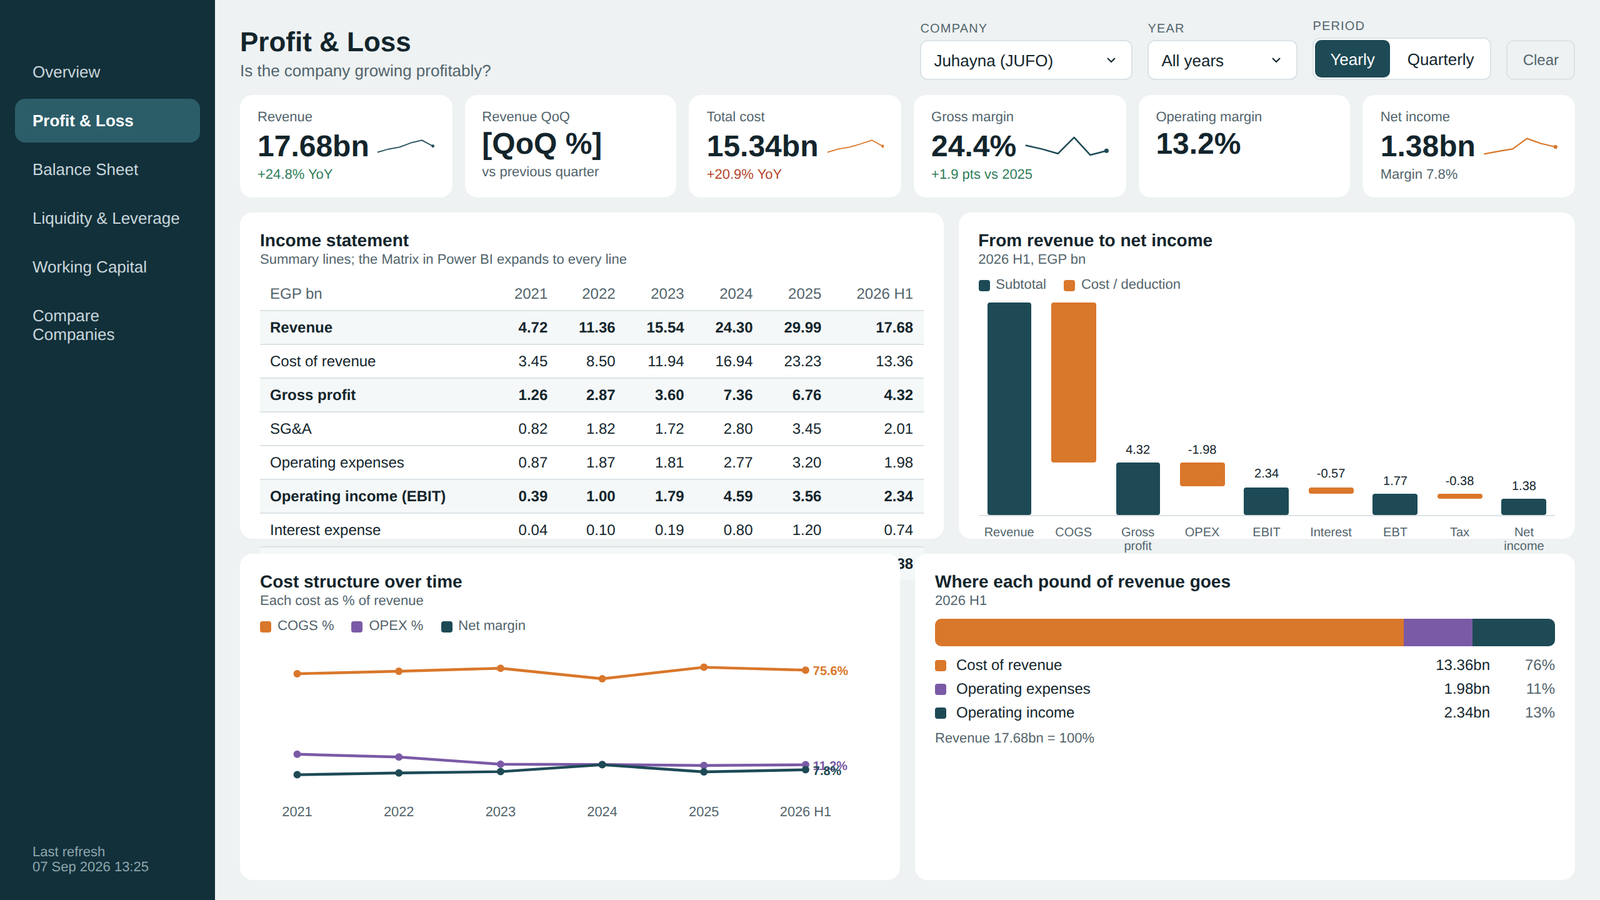

The page's visual inventory and layout, read from the dashboard file:
{"tool":"powerbi","page":{"name":"Profit & Loss","canvas":[1280,720],"ordinal":1},"visuals":[{"type":"card","title":"Revenue","fields":{"Values":["Measures List.Revenue (card)"]},"box":[192,78,170,80],"z":10},{"type":"card","title":"Revenue QoQ","fields":{"Values":["Measures List.Revenue QoQ% (card)"]},"box":[372,78,170,80],"z":11},{"type":"card","title":"Total cost","fields":{"Values":["Measures List.Total Cost (card)"]},"box":[551,78,170,80],"z":12},{"type":"card","title":"Gross margin","fields":{"Values":["Measures List.Gross Profit % (card)"]},"box":[731,78,170,80],"z":13},{"type":"card","title":"Operating margin","fields":{"Values":["Measures List.EBIT Margin % (card)"]},"box":[911,78,170,80],"z":14},{"type":"card","title":"Net income","fields":{"Values":["Measures List.Net Income (card)"]},"box":[1090,78,170,80],"z":15},{"type":"pivotTable","title":"Income statement","fields":{"Rows":["DimAccounts.Financial Term"],"Columns":["DimDate.Year"],"Values":["Measures List.Value (chart)"]},"box":[192,170,565,267],"z":20},{"type":"clusteredColumnChart","title":"From revenue to net income","fields":{"Y":["Measures List.Revenue (latest)","Measures List.COGS (latest)","Measures List.Gross profit (latest)","Measures List.OPEX (latest)","Measures List.EBIT (Operating Income) (latest)","Measures List.Interest Expense (latest)","Measures List.Pretax Income (latest)","Measures List.Income Tax Expense (latest)","Measures List.Net Income (latest)"]},"box":[769,170,491,267],"z":21},{"type":"lineChart","title":"Cost structure over time","fields":{"Y":["Measures List.COGS % of Revenue (chart)","Measures List.OPEX % of Revenue (chart)","Measures List.Net Income Margin % (chart)"],"Category":["DimDate.Year"]},"box":[192,449,528,255],"z":22},{"type":"hundredPercentStackedBarChart","title":"Where each pound of revenue goes","fields":{"Y":["Measures List.COGS (latest)","Measures List.OPEX (latest)","Measures List.EBIT (Operating Income) (latest)"]},"box":[732,449,528,255],"z":23},{"type":"pageNavigator","box":[12,38,150,270],"z":50},{"type":"card","title":"Last refresh","fields":{"Values":["Max(Last Refreash.Date)"]},"box":[12,656,150,52],"z":51},{"type":"textbox","box":[188,0,540,46],"z":52},{"type":"textbox","box":[188,44,540,30],"z":53},{"type":"slicer","title":"COMPANY","fields":{"Values":["FactFinancials.Company"]},"box":[736,10,170,56],"z":54},{"type":"slicer","title":"YEAR","fields":{"Values":["DimDate.Year"]},"box":[918,10,120,56],"z":55},{"type":"actionButton","box":[1205,34,55,30],"z":56}]}

Visuals, with their boxes on the page's 1280x720 design canvas (x1, y1, x2, y2). These are canvas units, not pixel positions in the 1600x900 screenshot, which may show the page scaled, cropped or inside an application window:
"Revenue" card: [192, 78, 362, 158]
"Revenue QoQ" card: [372, 78, 542, 158]
"Total cost" card: [551, 78, 721, 158]
"Gross margin" card: [731, 78, 901, 158]
"Operating margin" card: [911, 78, 1081, 158]
"Net income" card: [1090, 78, 1260, 158]
"Income statement" pivotTable: [192, 170, 757, 437]
"From revenue to net income" clusteredColumnChart: [769, 170, 1260, 437]
"Cost structure over time" lineChart: [192, 449, 720, 704]
"Where each pound of revenue goes" hundredPercentStackedBarChart: [732, 449, 1260, 704]
pageNavigator: [12, 38, 162, 308]
"Last refresh" card: [12, 656, 162, 708]
textbox: [188, 0, 728, 46]
textbox: [188, 44, 728, 74]
"COMPANY" slicer: [736, 10, 906, 66]
"YEAR" slicer: [918, 10, 1038, 66]
actionButton: [1205, 34, 1260, 64]
